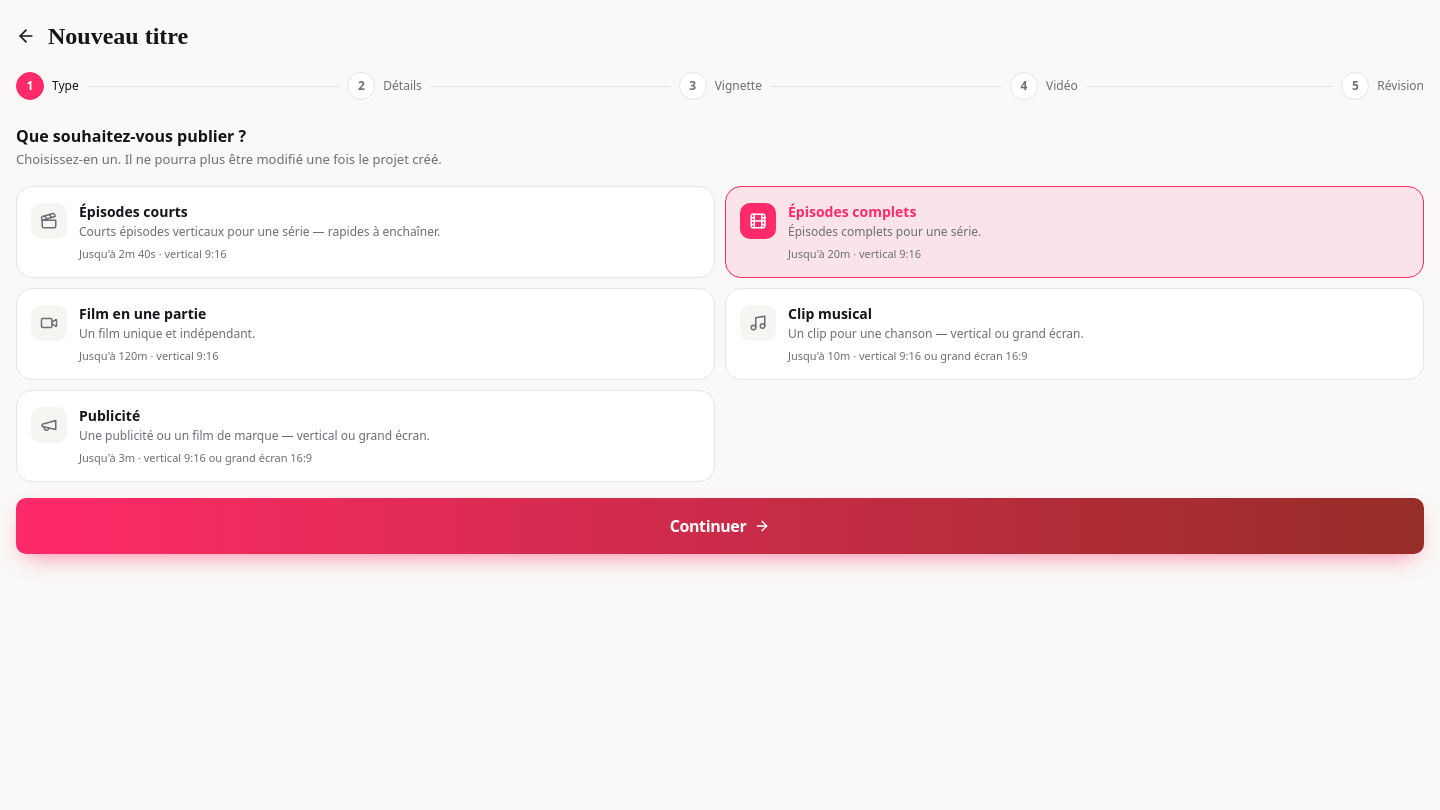
Test: French › the whole wizard renders in French
Expected: the heading "Que souhaitez-vous publier ?" is shown, [16,125,246,147]
Expected: the text "Détails" is shown, [383,77,422,95]
Click the button "Continuer" at point(720, 526), box [16,498,1424,554]
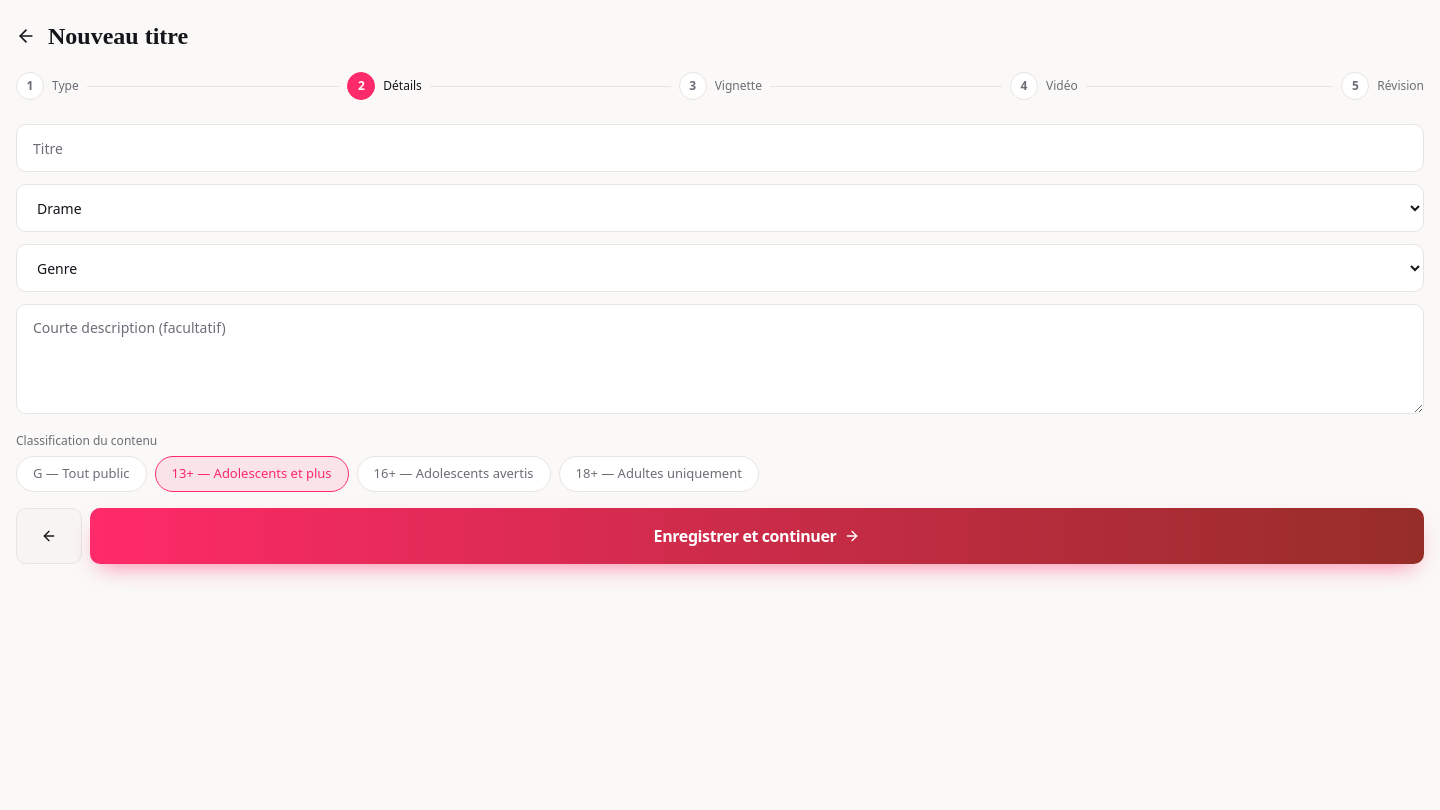
Expected: the field with placeholder "Titre" is shown, [16,124,1424,172]
